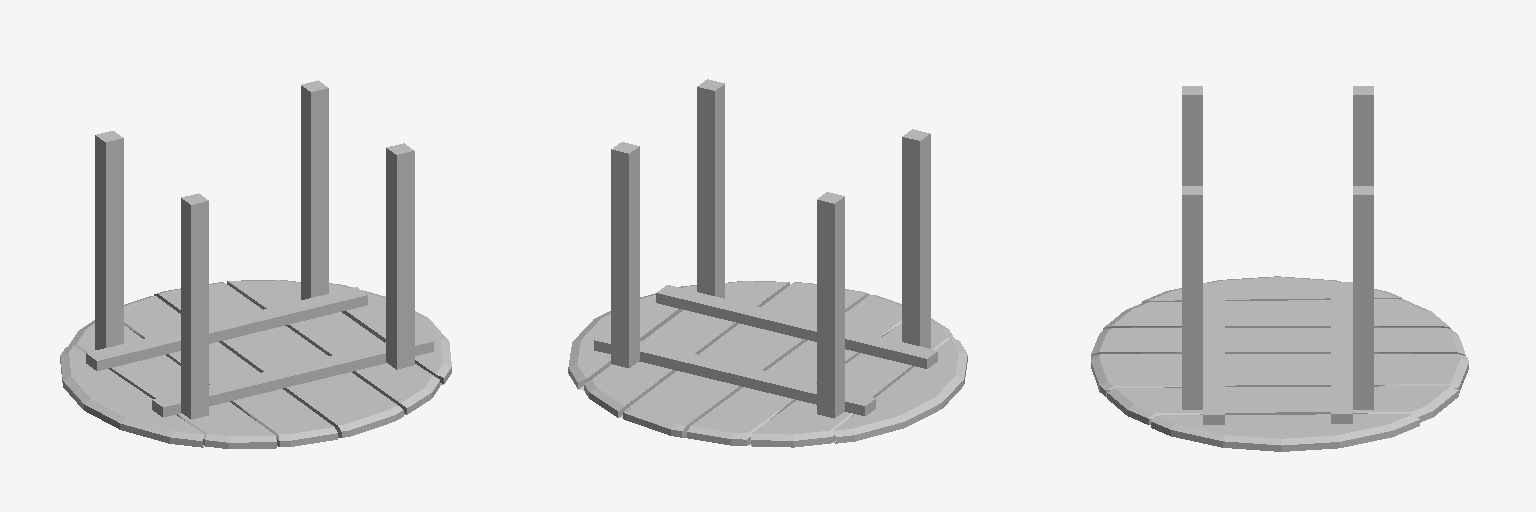
The model's file is tableFinal_9.obj.
3 views of the same model, side by side, from view 1: azimuth 30°, elevation 25°; view 2: azimuth 150°, elevation 25°; view 3: azimuth 270°, elevation 25° (orthographic).
Visible parts, largest first — view 1: Cube; view 2: Cube; view 3: Cube.
Boxes of the visible parts, box(x1,y1,x2,y2) form: Cube: box(60, 80, 451, 448); Cube: box(568, 79, 967, 447); Cube: box(1091, 86, 1468, 451).
Bounding box in the file's own units: 2.22 × 1.4 × 2.09.